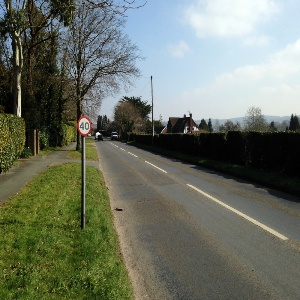40 speed: (77, 116, 92, 136)
